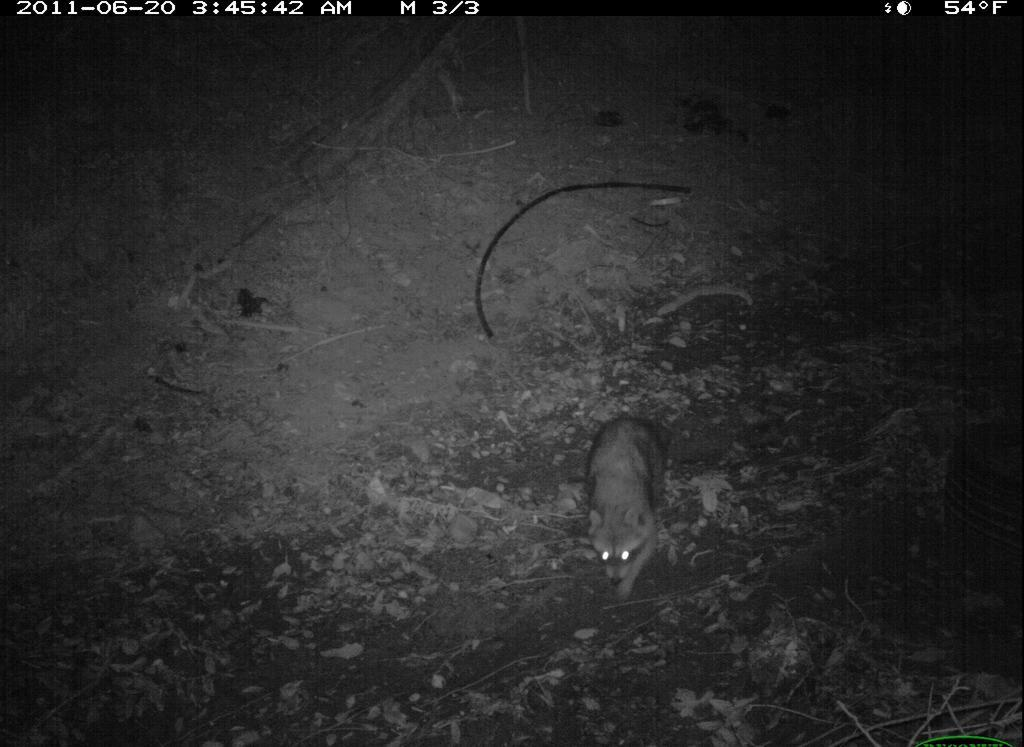raccoon: (546, 390, 676, 634)
